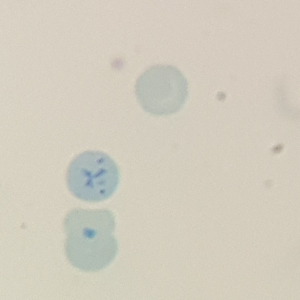aggregate reticulocyte: (64, 149, 124, 204)
erythrocyte: (133, 63, 190, 118), (61, 232, 122, 274), (61, 205, 119, 246)
